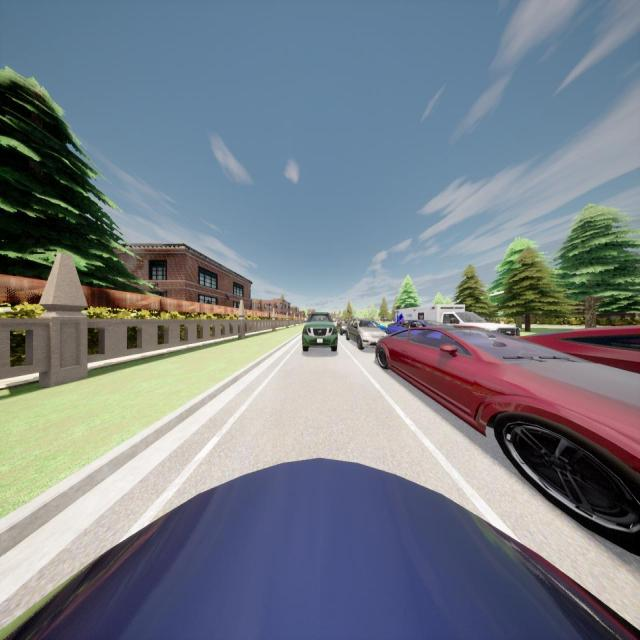Vehicle: (1, 456, 640, 640), (375, 324, 639, 553), (528, 325, 640, 372), (395, 304, 520, 336), (301, 312, 338, 351), (346, 318, 387, 349), (388, 320, 439, 334), (336, 319, 350, 336), (370, 320, 388, 332)
